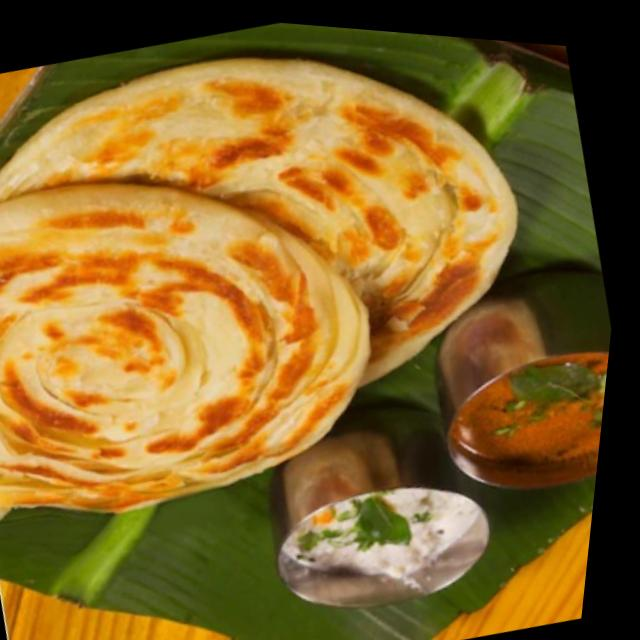CURD: (281, 490, 482, 582)
CURRY: (447, 350, 609, 469)
PAROTTA: (0, 53, 522, 524)
